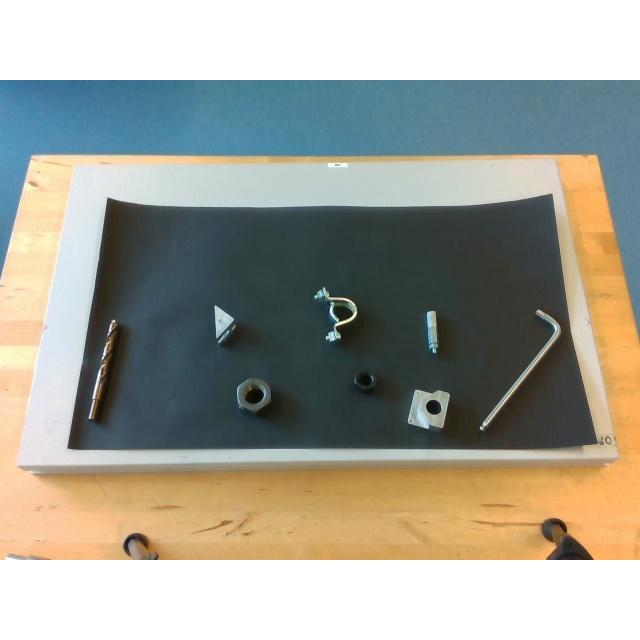AllenKey: (478, 308, 562, 434)
Drill: (88, 319, 120, 421)
Housing: (314, 288, 358, 340)
M20: (352, 370, 376, 390)
M30: (236, 376, 272, 412)
